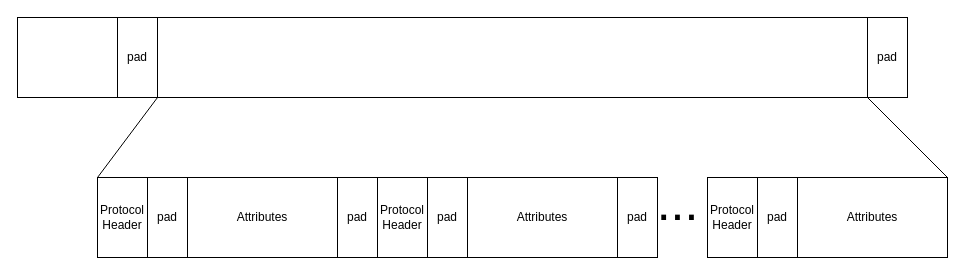
Some shapes in this 966 by 275 pixel diagram are drawn without their labels. Each missing label, with the centre of its shape:
"payload" belongs at point 512,57.
"struct nlmsghdr" belongs at point 67,57.
